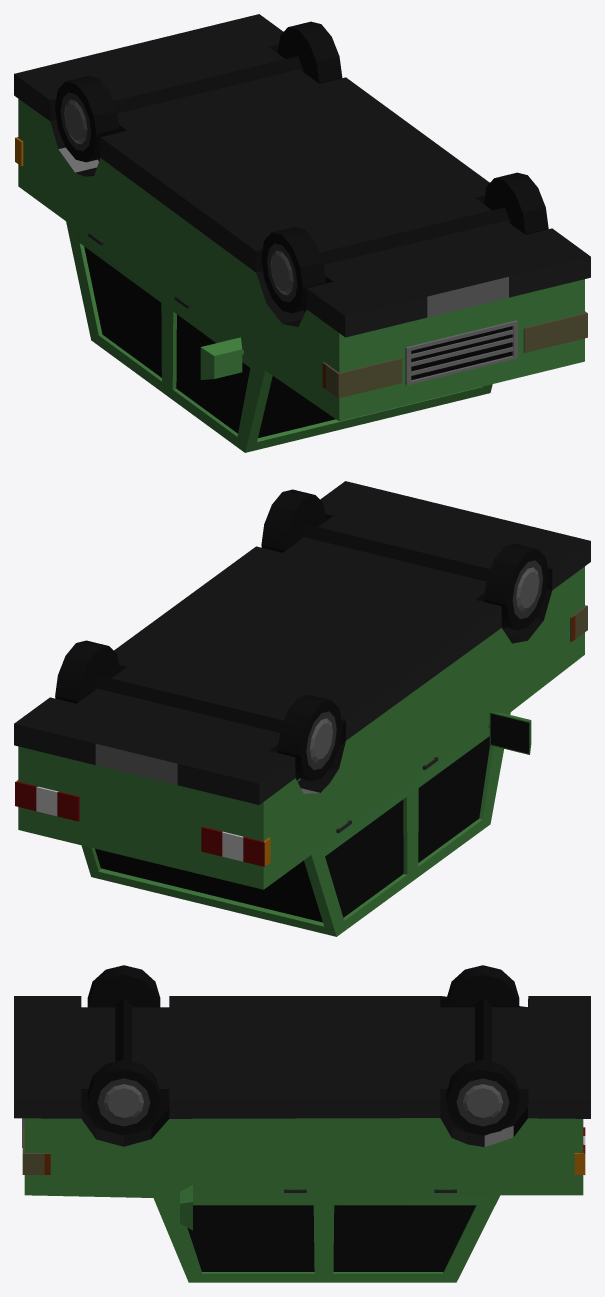
File: car1.FBX
The picture shows the model from 3 angles, top to bottom: view 1: azimuth 30°, elevation 25°; view 2: azimuth 150°, elevation 25°; view 3: azimuth 270°, elevation 25°; orthographic projection. The views are drawn at different scales.
Parts seen in each view (by area): view 1: car1; view 2: car1; view 3: car1.
Part boxes in pixels (x1=…): car1: x1=14, y1=14, x2=590, y2=452; car1: x1=14, y1=481, x2=590, y2=936; car1: x1=14, y1=965, x2=590, y2=1282.
Bounding box in the file's own units: 3.31 × 2.34 × 5.74.
